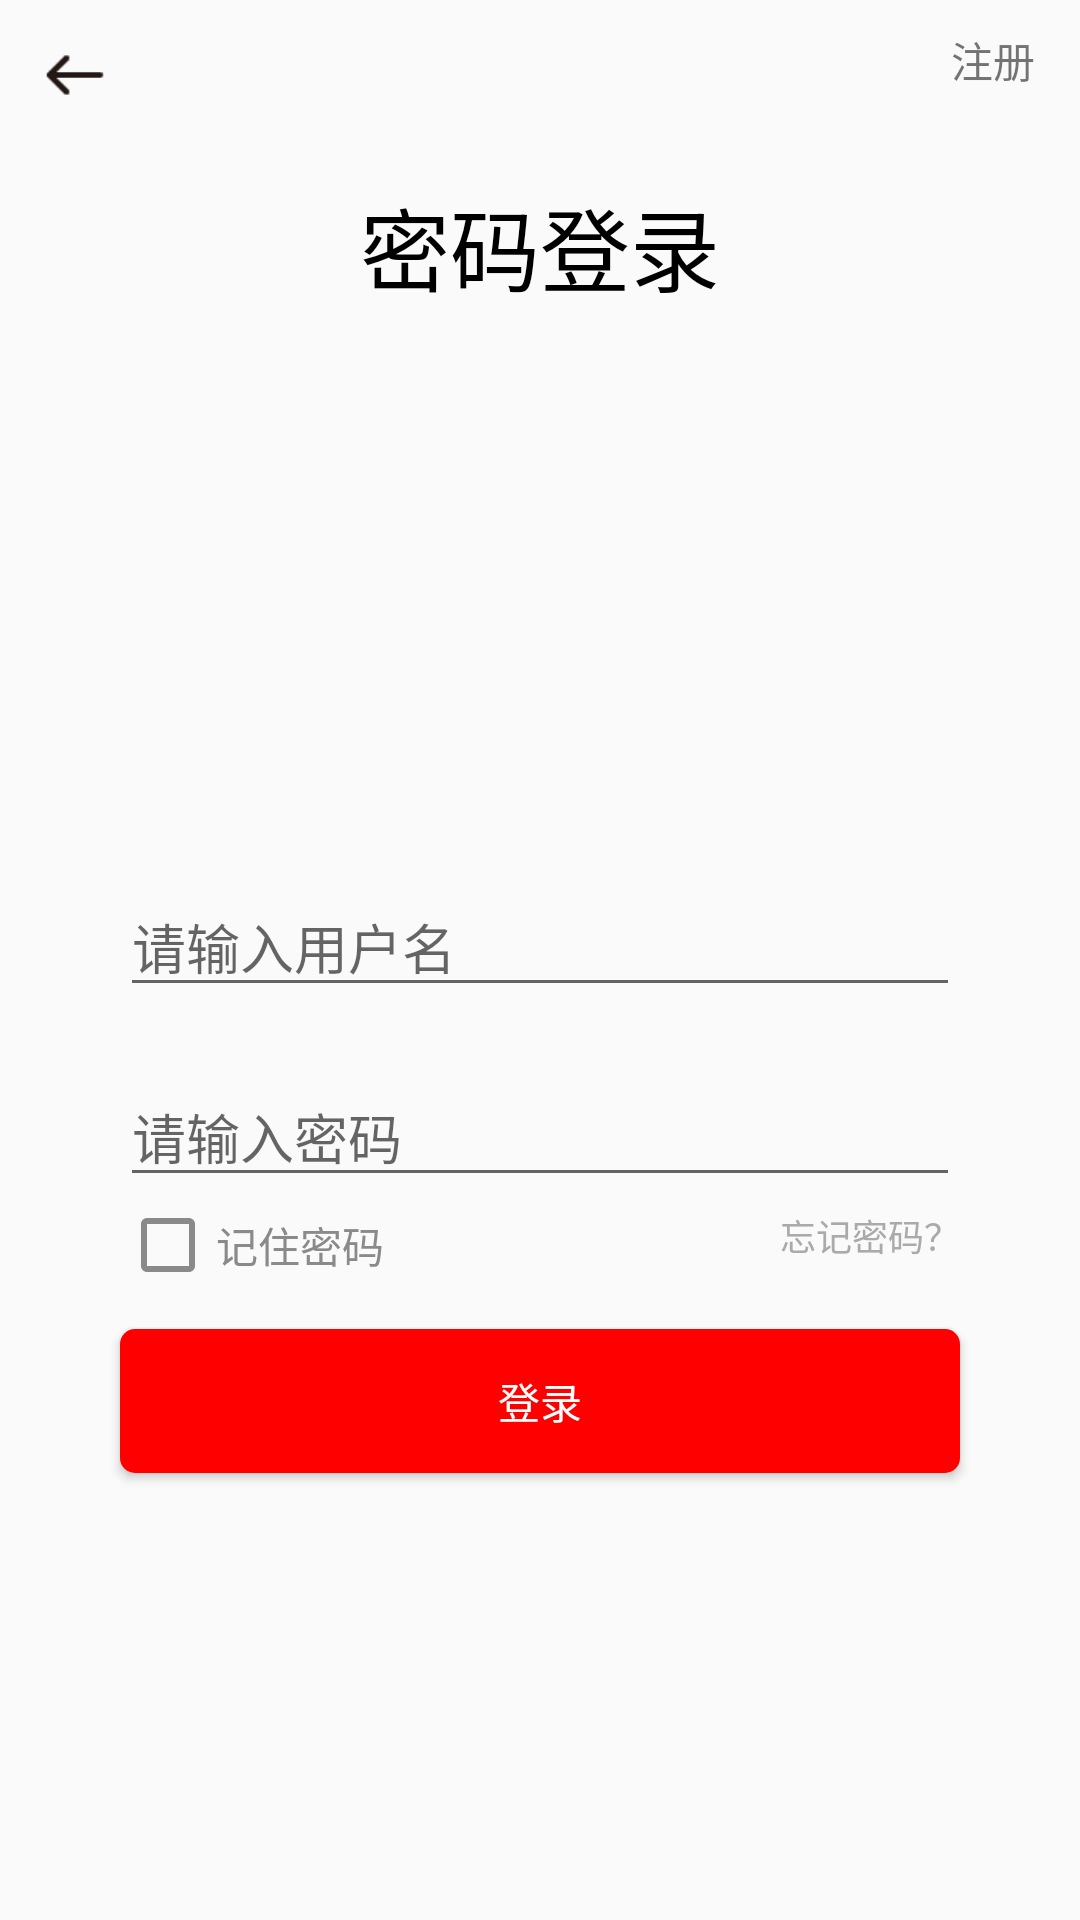

Icon bounding boxes for this 1080 × 1920 phone screenshot, format (x1, y1, x2, y2):
arrow back: (46, 55, 104, 95)
